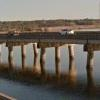Bridge: (4, 8, 97, 58)
